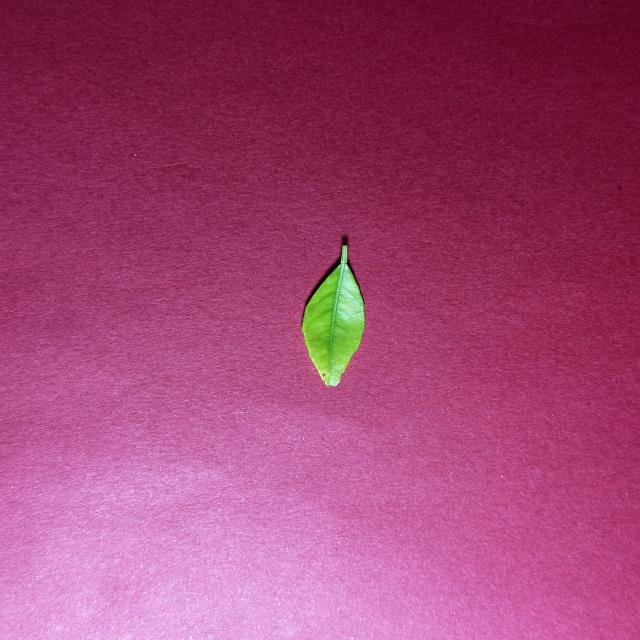greening: (302, 244, 365, 386)
